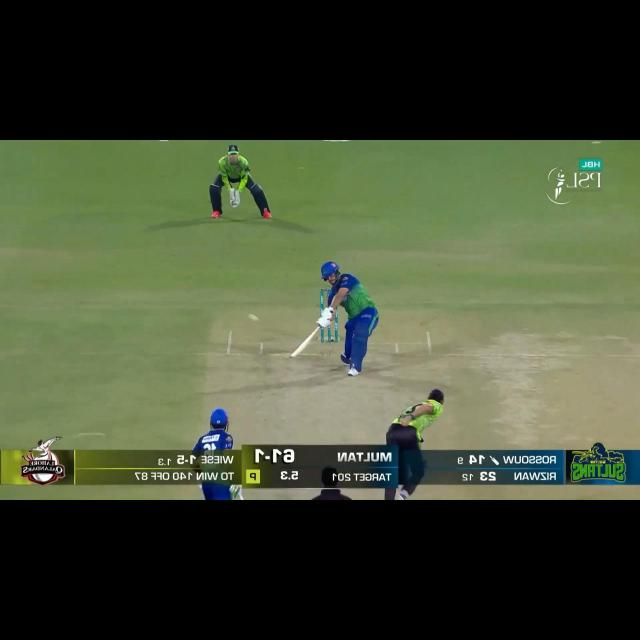bat: (290, 326, 322, 359)
toe: (289, 349, 301, 360)
